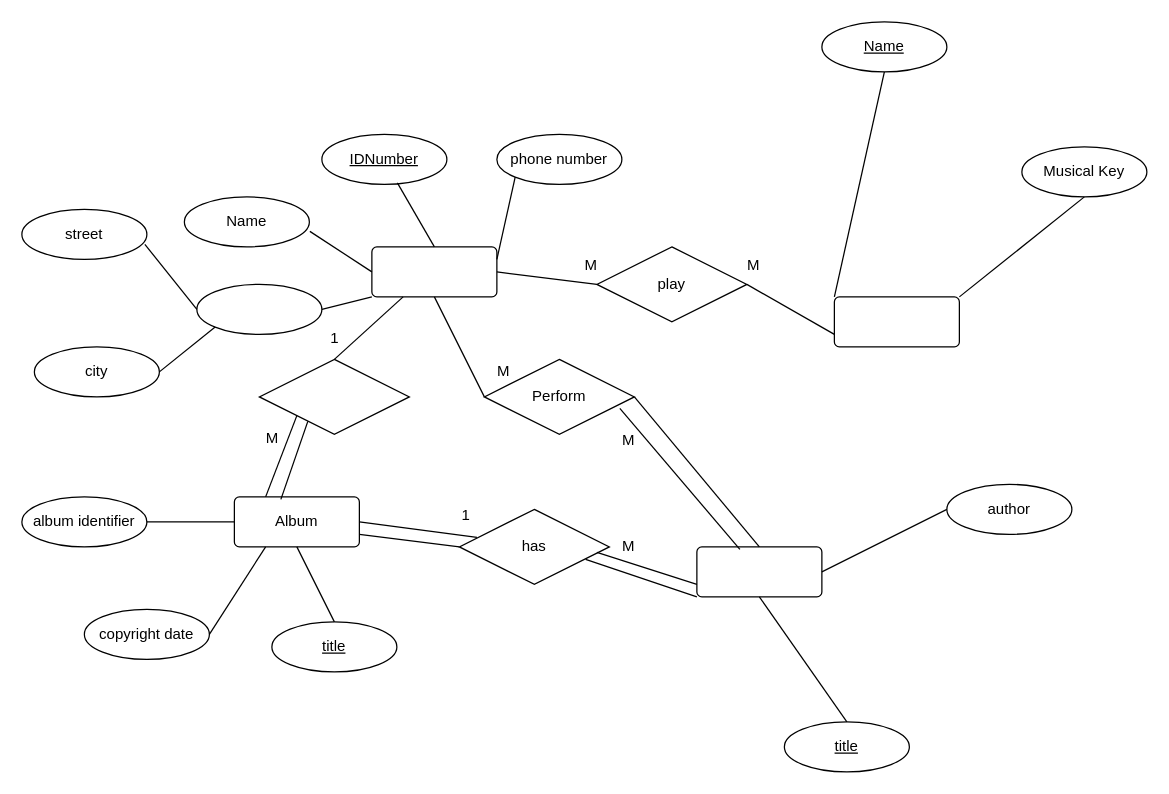
This 1169x794 diagram has some shape labels left out. Here are the shapes that lost their labels. From the top down, the centre of each, then its label:
[434,271]: Musician
[259,308]: Adress
[896,321]: Instrument
[333,396]: produce
[759,571]: song
